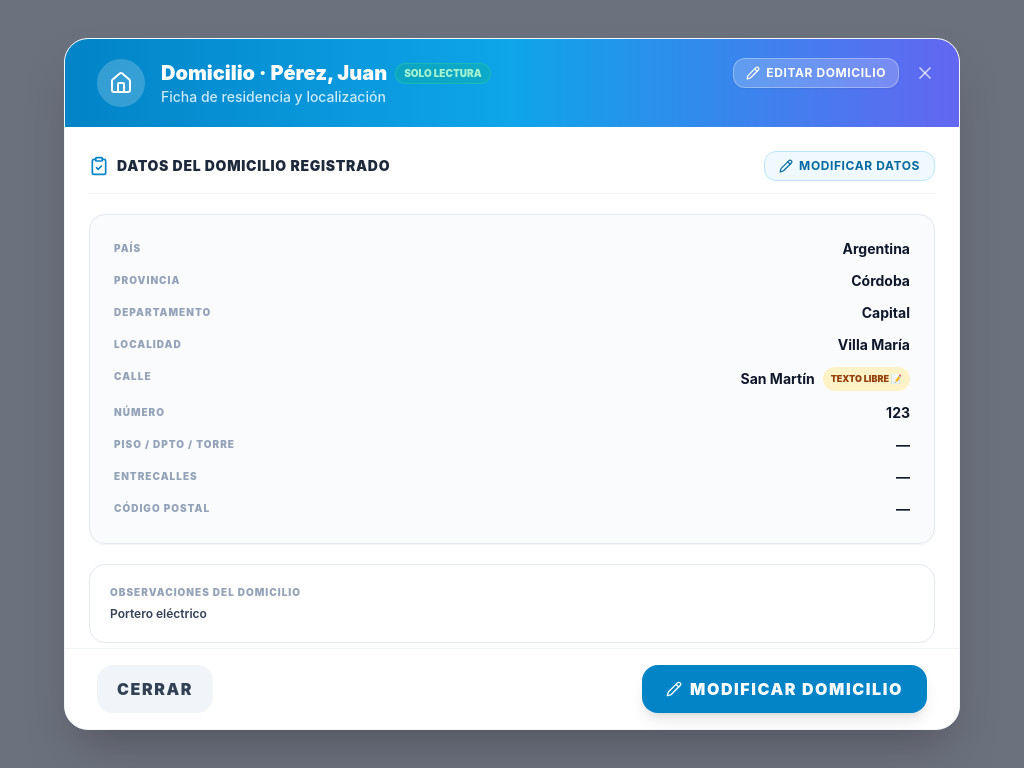
Test: PersonaDomicilioModal · modo lectura / edición › pasa a edición y al cancelar restaura el snapshot
The width and height of the screenshot is (1024, 768).
Click the button "Modificar Domicilio" at {"x": 784, "y": 689}, box [642,665,927,713]
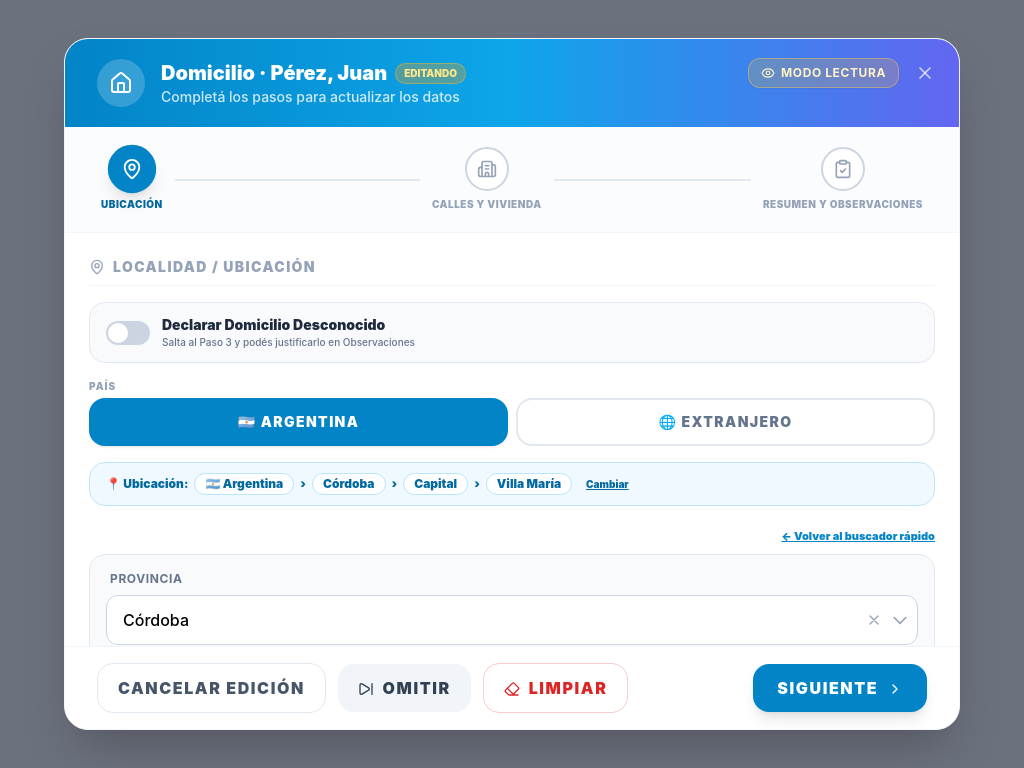
Expected: the button with aria-label "Ir al paso 1: Ubicación" is shown, [97,143,167,216]
Expected: the text "Editando" is shown, [395,63,466,84]
Expected: the field showing "Córdoba" is shown, [106,595,918,645]
// El toggle manual sigue disponible: vuelve al buscador rápido
Click the button "← Volver al buscador rápido" at {"x": 858, "y": 537}, box [781,528,935,545]
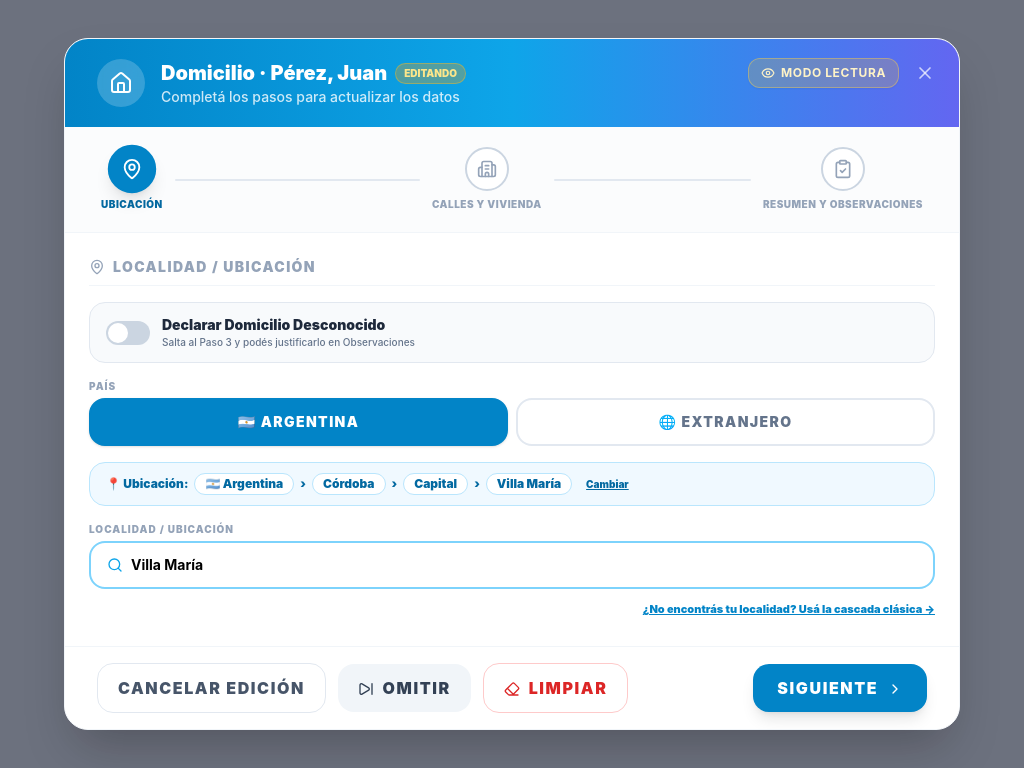
Expected: the field showing "Villa María" is shown, [131,555,917,575]
Click the button "Cancelar Edición" at {"x": 211, "y": 688}, box [97,663,326,713]
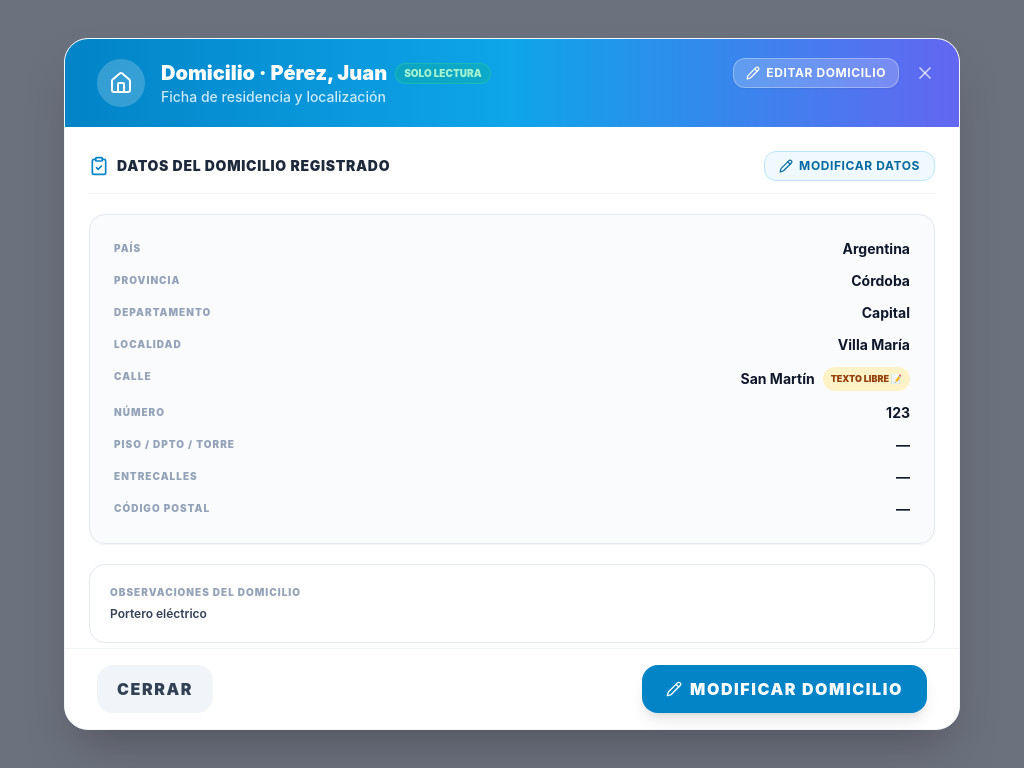
Expected: the heading "Datos del Domicilio Registrado" is shown, [117,156,390,176]
Expected: the text "123" is shown, [886,403,910,423]
